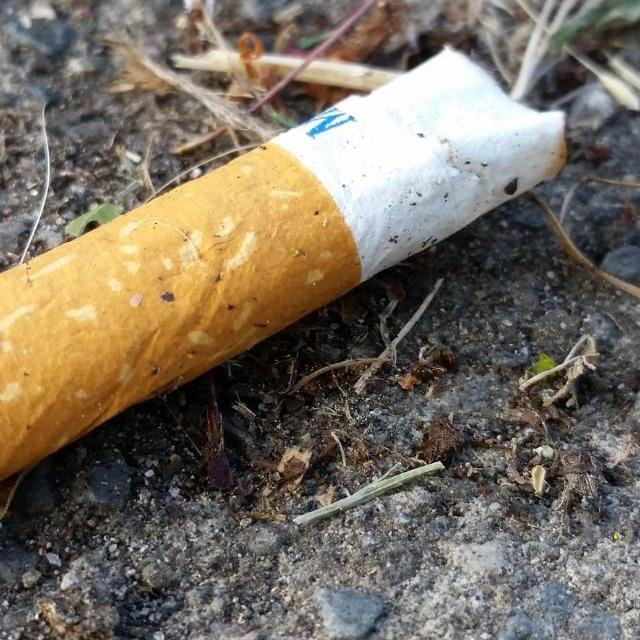Cigarette Butt: (0, 42, 572, 594)
